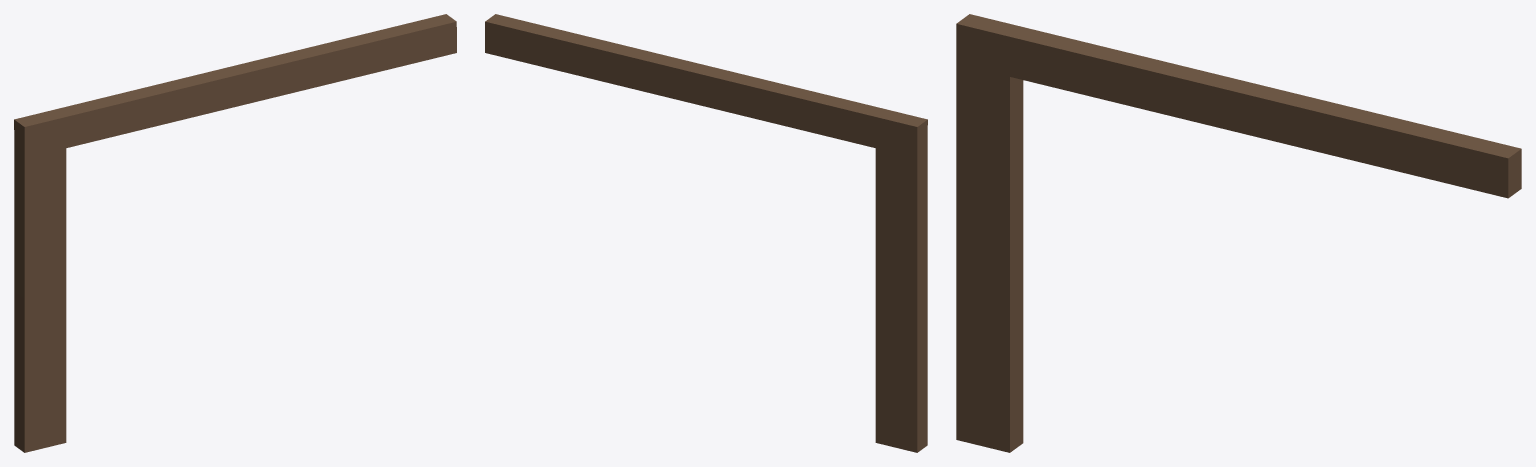
Rendered from Trave 2.fbx.
The picture shows the model from 3 angles, left to right: view 1: azimuth 30°, elevation 25°; view 2: azimuth 150°, elevation 25°; view 3: azimuth 330°, elevation 25°; orthographic projection. The views are drawn at different scales.
Visible parts, largest first — view 1: Colonna liscia.005; view 2: Colonna liscia.005; view 3: Colonna liscia.005.
Boxes of the visible parts, left/top/right/bottom form: Colonna liscia.005: left=14, top=14, right=456, bottom=452; Colonna liscia.005: left=485, top=14, right=927, bottom=452; Colonna liscia.005: left=956, top=14, right=1521, bottom=452.
Size of the model in its own units: 926 by 667 by 38.74.
